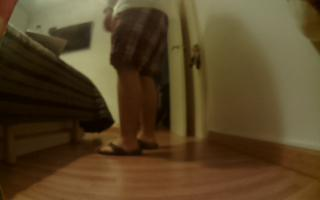person: (90, 1, 180, 157)
